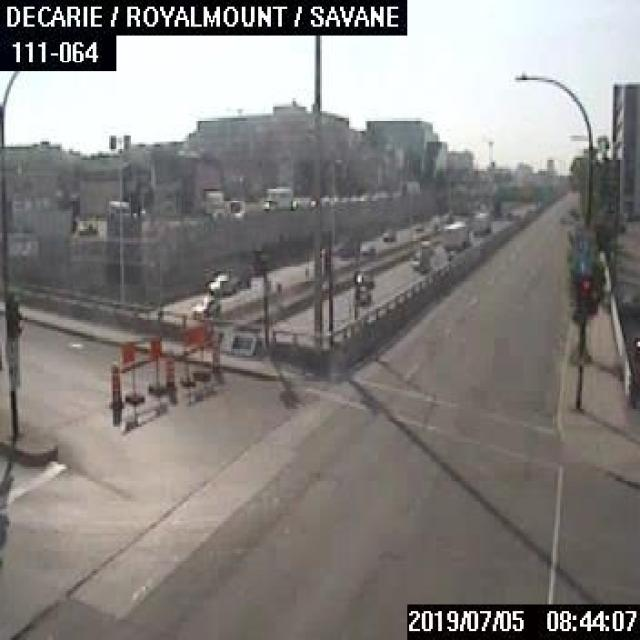construction: (180, 322, 207, 384), (120, 342, 144, 402), (148, 334, 163, 393), (108, 363, 120, 408), (163, 350, 176, 386), (208, 337, 220, 372)
vehicle: (442, 218, 471, 249), (204, 271, 235, 295), (471, 209, 490, 231)
